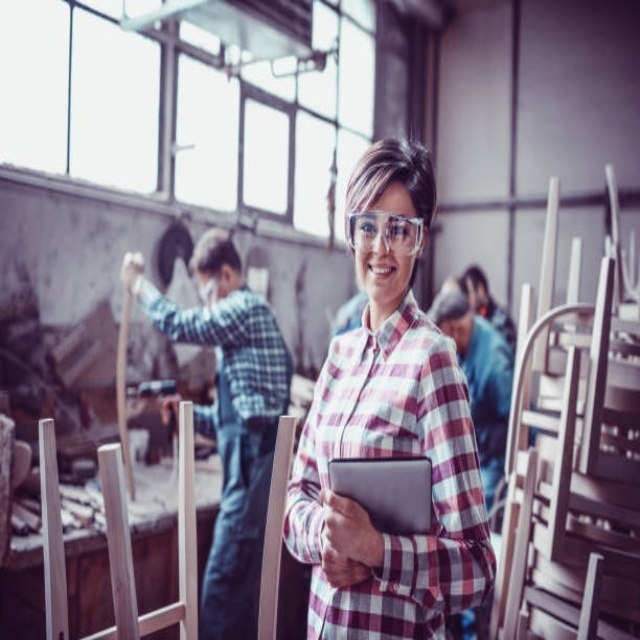Gafas: (347, 210, 425, 255)
Sin_guantes: (313, 480, 382, 595)
Sin_mascara: (364, 257, 394, 293)
